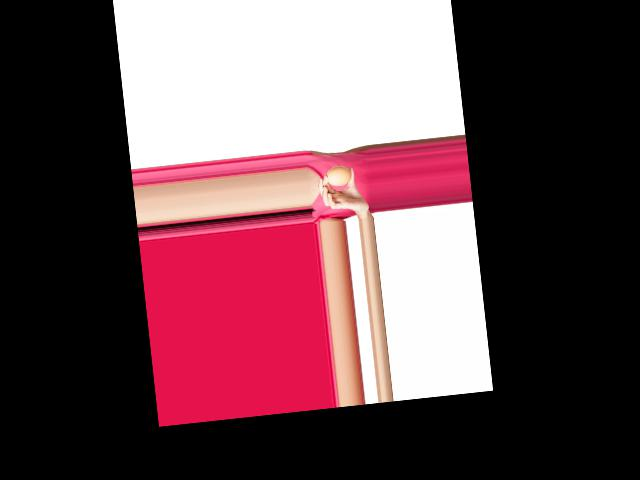egg: (325, 165, 352, 187)
